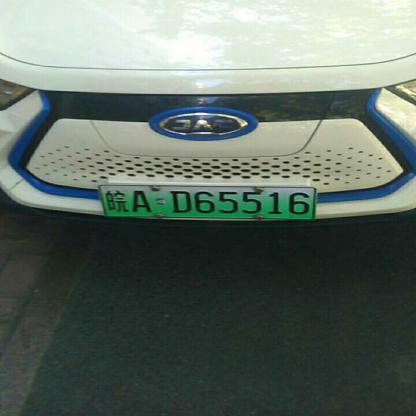lp: (99, 184, 315, 218)
